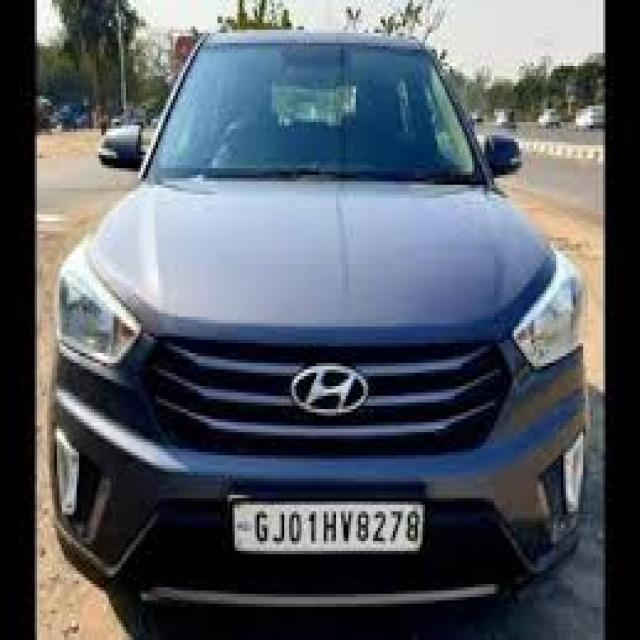SUV: (49, 22, 586, 635)
